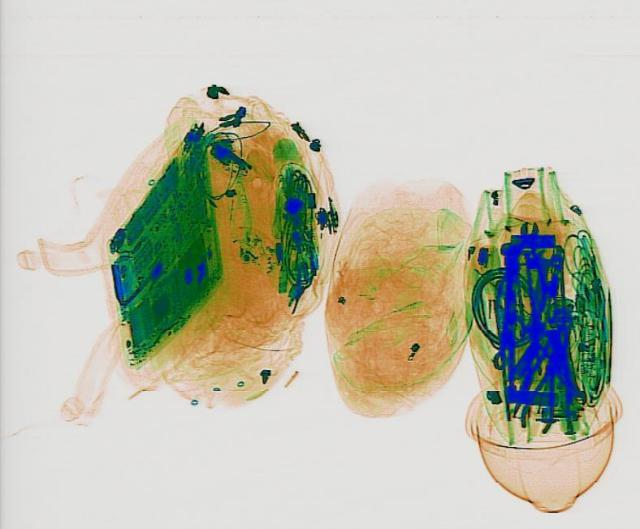Pliers: (512, 344, 576, 432)
